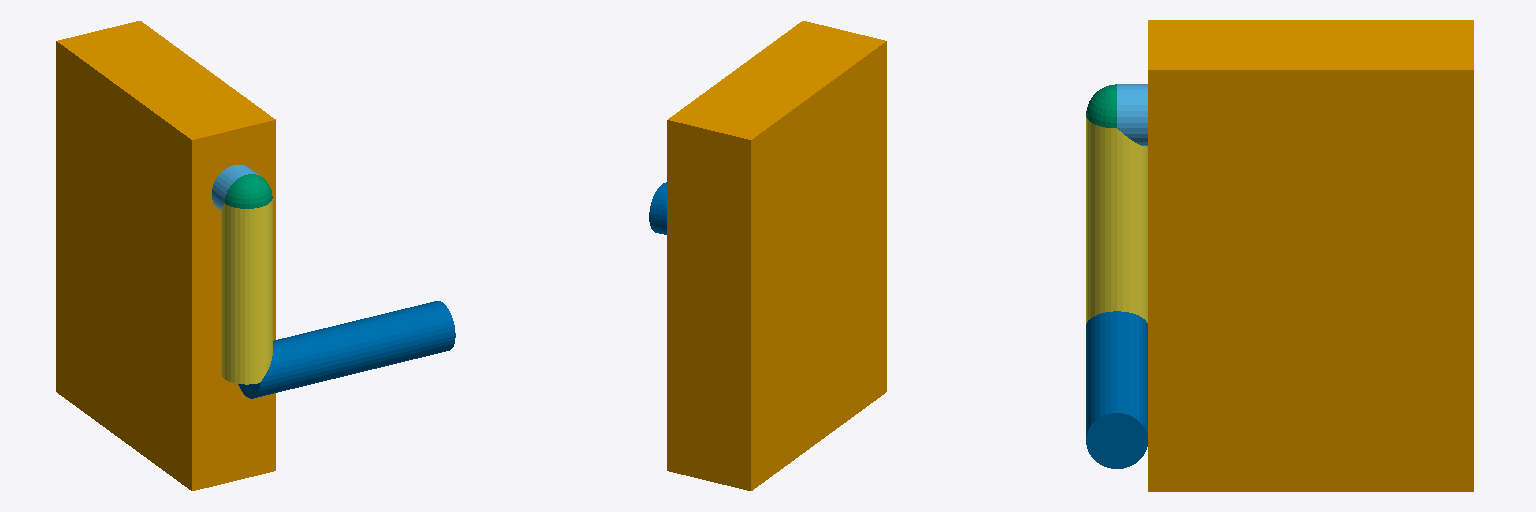
The robot description file, URDF, robot "myfirst":
<?xml version="1.0"?>
<robot name="myfirst">
  <link name="base_link">
    <visual>
      <origin rpy="0 0 0" xyz="0 0 -0.2" />
      <geometry>
        <box size="0.15 0.42 0.6" />
      </geometry>
    </visual>
  </link>

  <link name="base_extension">
    <visual>
      <origin rpy="0 0 0" xyz="0 0 0.02"/>
      <geometry>
        <cylinder length="0.04" radius="0.04"/>
      </geometry>
    </visual>
  </link>

  <link name="shoulder">
    <visual>
      <geometry>
        <sphere radius="0.04"/>
      </geometry>
    </visual>
  </link>

  <joint name="base_to_extension" type="fixed">
    <origin rpy="1.570796 0 0" xyz="0 -0.21 0" />
    <parent link="base_link"/>
    <child link="base_extension"/> 
  </joint>

  <joint name="t1" type="revolute">
    <axis xyz="0 0 1" />
    <limit effort="1000.0" lower="0.0" upper="0.548" velocity="0.5" />
    <origin rpy="1.570796 0 0" xyz="0 0 0.04"/>
    <parent link="base_extension"/>
    <child link="shoulder"/>
  </joint>

  <link name="upper_arm">
  <visual>
    <origin rpy="1.570796 0 0" xyz="0 0.15 0"/>
    <geometry>
      <cylinder length="0.3" radius="0.04"/>
    </geometry>
  </visual>
  </link>

  <joint name="t2" type="revolute">
    <axis xyz="0 0 1" />
    <limit effort="1000.0" lower="0.0" upper="0.548" velocity="0.5" />
    <origin rpy="-1.570796 0 0" xyz="0 0 0.3"/>
    <parent link="shoulder"/>
    <child link="upper_arm"/>
  </joint>

  <link name="forearm">
   <visual>
    <origin rpy="0 1.570796 0" xyz="-0.175 0 0"/>
    <geometry>
      <cylinder length="0.35" radius="0.04"/>
    </geometry>
  </visual> 
  </link>

  <joint name="t3" type="revolute">
    <axis xyz="0 0 1" />
    <limit effort="1000.0" lower="0.0" upper="0.548" velocity="0.5" />
    <origin rpy="0 0 0" xyz="0.35 0 0"/>
    <parent link="upper_arm"/>
    <child link="forearm"/>
  </joint>

</robot>

--- Render facts (derived) ---
3 views of the same robot in one strip: view 1: azimuth 30°, elevation 25°; view 2: azimuth 150°, elevation 25°; view 3: azimuth 270°, elevation 25° (orthographic).
Model myfirst with 5 links and 4 joints (3 revolute, 1 fixed), rooted at base_link, posed every joint at zero.
Links seen in each view (by area): view 1: base_link, forearm, upper_arm, shoulder, base_extension; view 2: base_link, forearm; view 3: base_link, upper_arm, forearm, base_extension, shoulder.
Link boxes in pixels (box(x1,y1,x2,y2)): base_link: box(56, 21, 275, 490); forearm: box(238, 301, 455, 398); upper_arm: box(221, 199, 272, 384); shoulder: box(225, 174, 272, 208); base_extension: box(212, 165, 259, 210); base_link: box(667, 21, 886, 490); forearm: box(649, 182, 666, 234); base_link: box(1148, 20, 1473, 491); upper_arm: box(1086, 117, 1147, 323); forearm: box(1086, 311, 1147, 468); base_extension: box(1117, 84, 1147, 145); shoulder: box(1086, 84, 1116, 127).
Size in the robot's own frame: 0.425 by 0.5 by 0.6 metres.
Geometry: primitives only (box / cylinder / sphere), no mesh files.